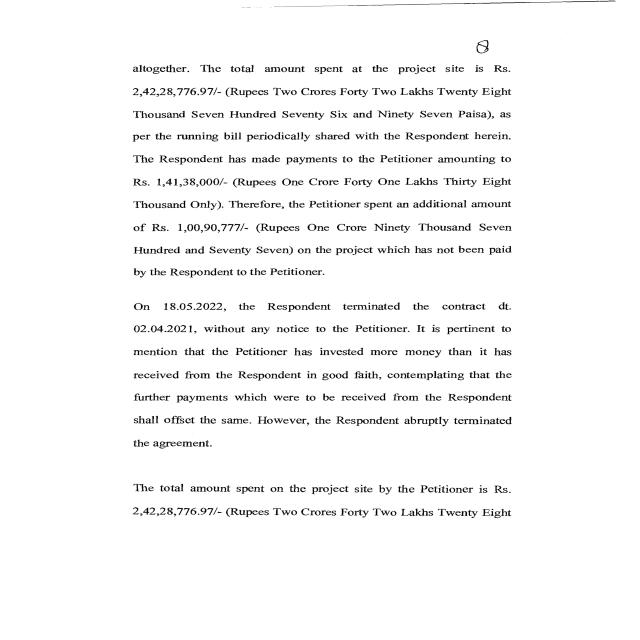page-number: (6, 2, 592, 56)
